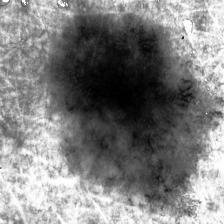Benign Marking or Mole: (53, 17, 213, 214)
